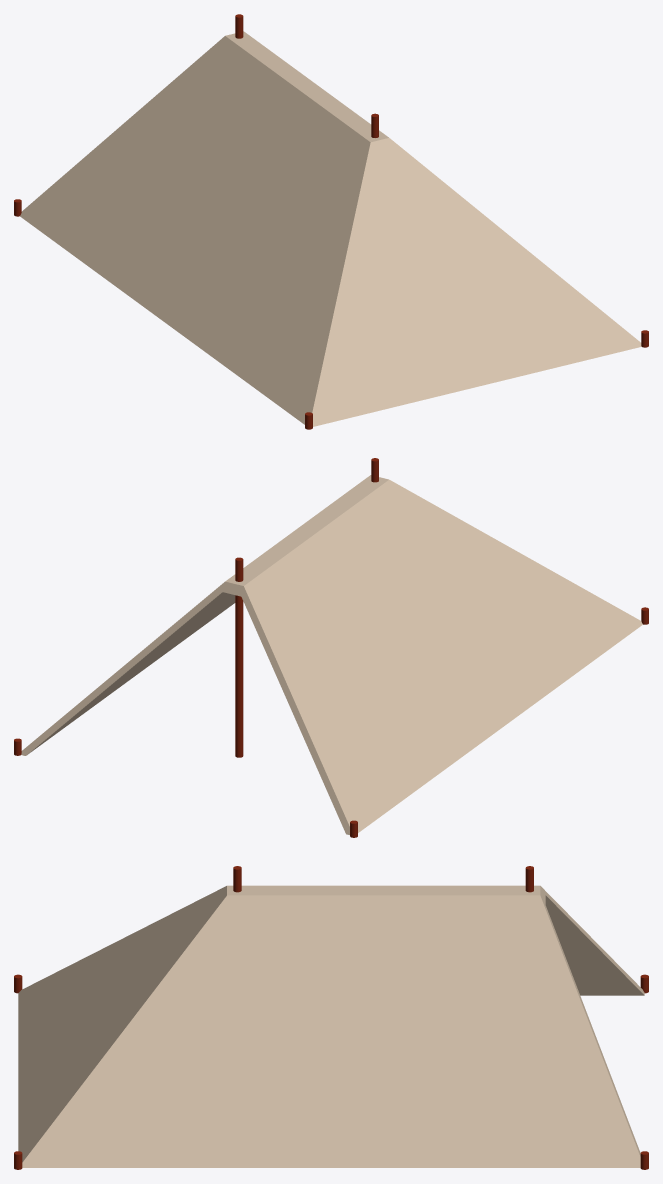
The model's file is basic_tent.glb.
3 renders of one model, top to bottom at view 1: azimuth 30°, elevation 25°; view 2: azimuth 150°, elevation 25°; view 3: azimuth 270°, elevation 25°, orthographic. The views are drawn at different scales.
Visible parts, largest first — view 1: Cube; view 2: Cube, Cylinder.005; view 3: Cube.
Boxes of the visible parts, bbox=[...] form: Cube: bbox=[20, 31, 641, 426]; Cube: bbox=[21, 475, 642, 834]; Cylinder.005: bbox=[235, 557, 243, 757]; Cube: bbox=[18, 885, 644, 1167].
Bounding box in the file's own units: 4.08 × 2.24 × 6.08.
